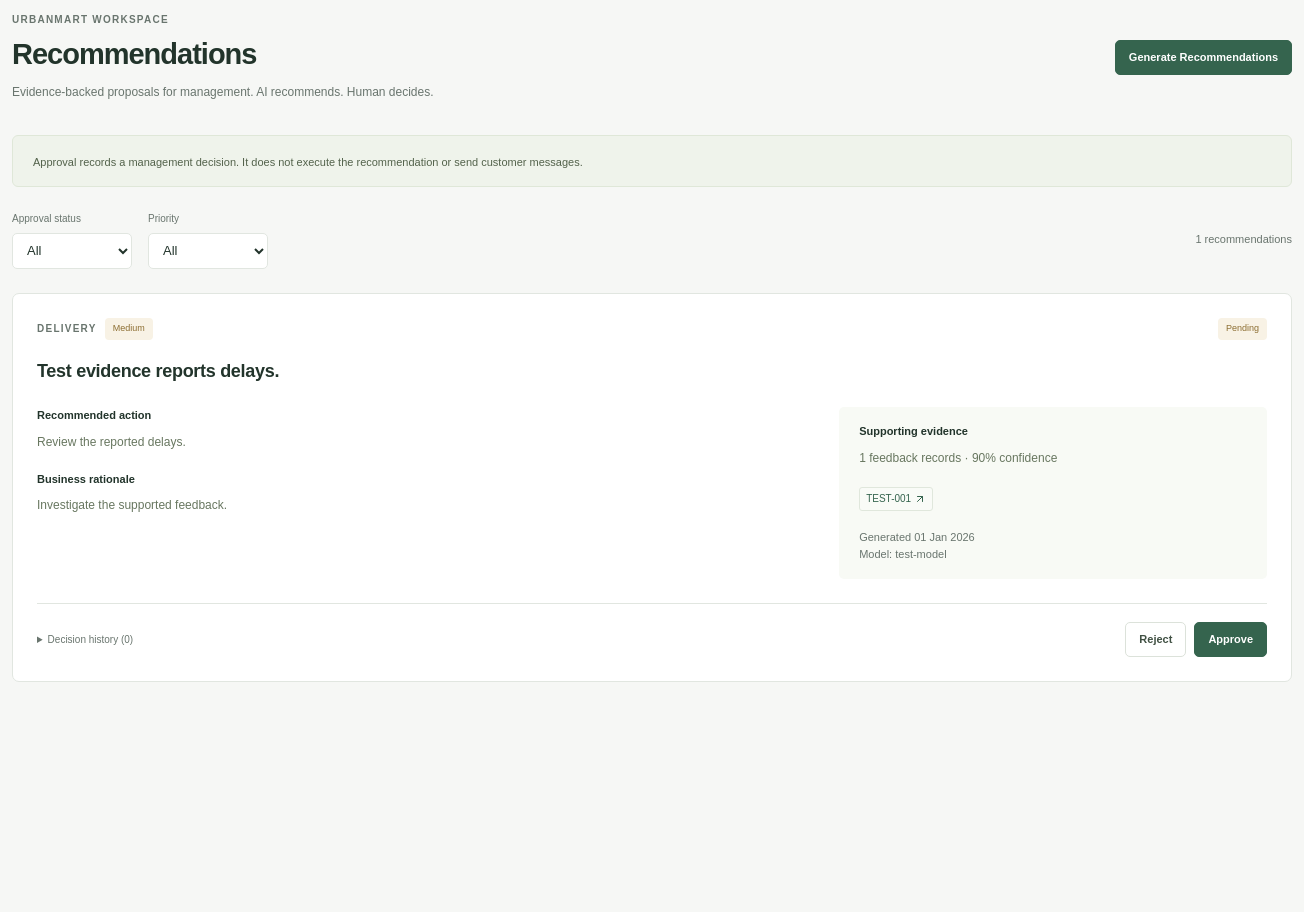
Scenario: Workspace › shows duplicate skips and partial generation failures without hiding saved proposals
Click the button "Generate Recommendations": (1203, 58) 1115,40 -> 1292,75
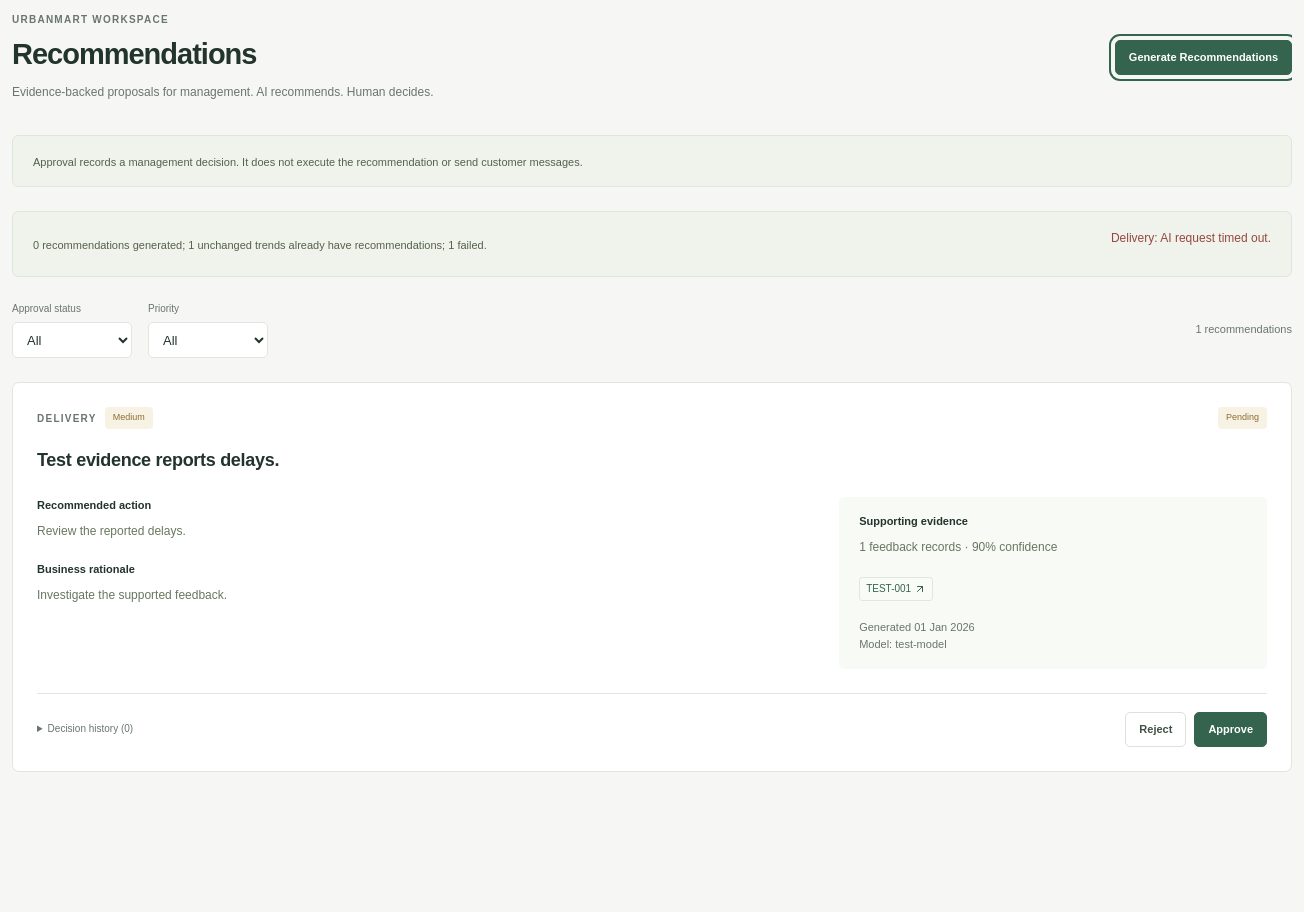
expect the message shows "1 unchanged trends": met, box 33,239 -> 487,251
expect the message shows "1 failed": met, box 33,239 -> 487,251
expect the text "Delivery: AI request timed out." is shown: met, box 1111,229 -> 1271,249
